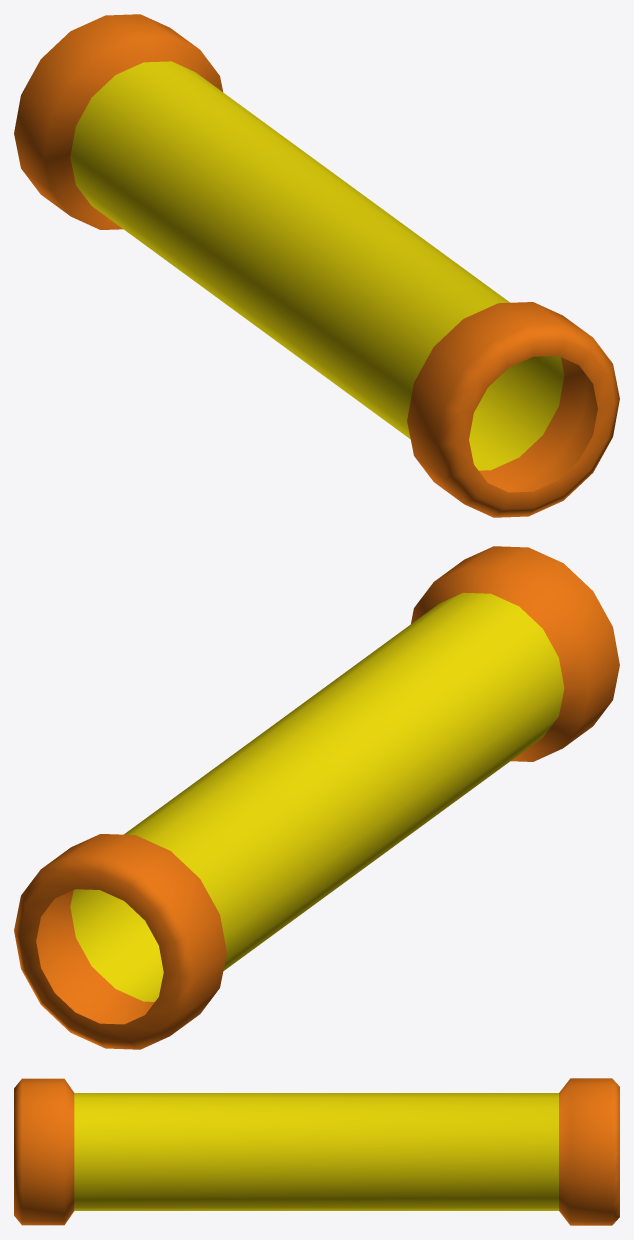
The model's file is pipe_a.fbx.
The picture shows the model from 3 angles, top to bottom: view 1: azimuth 30°, elevation 25°; view 2: azimuth 150°, elevation 25°; view 3: azimuth 270°, elevation 25°; orthographic projection. The views are drawn at different scales.
Parts seen in each view (by area): view 1: pipe_s_c_01; view 2: pipe_s_c_01; view 3: pipe_s_c_01.
Part boxes in pixels (left/top/right/bottom): pipe_s_c_01: left=14, top=14, right=619, bottom=517; pipe_s_c_01: left=14, top=546, right=619, bottom=1049; pipe_s_c_01: left=14, top=1078, right=619, bottom=1225.
Size of the model in its own units: 24.61 by 24.61 by 101.
